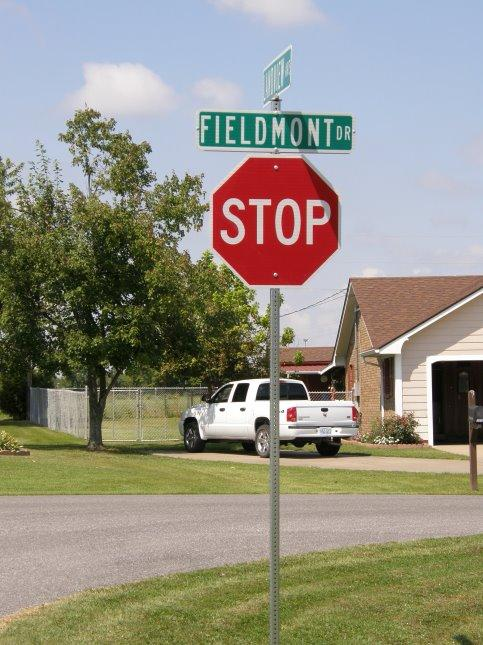Pole: (269, 294, 280, 643)
Sign: (207, 153, 342, 290)
